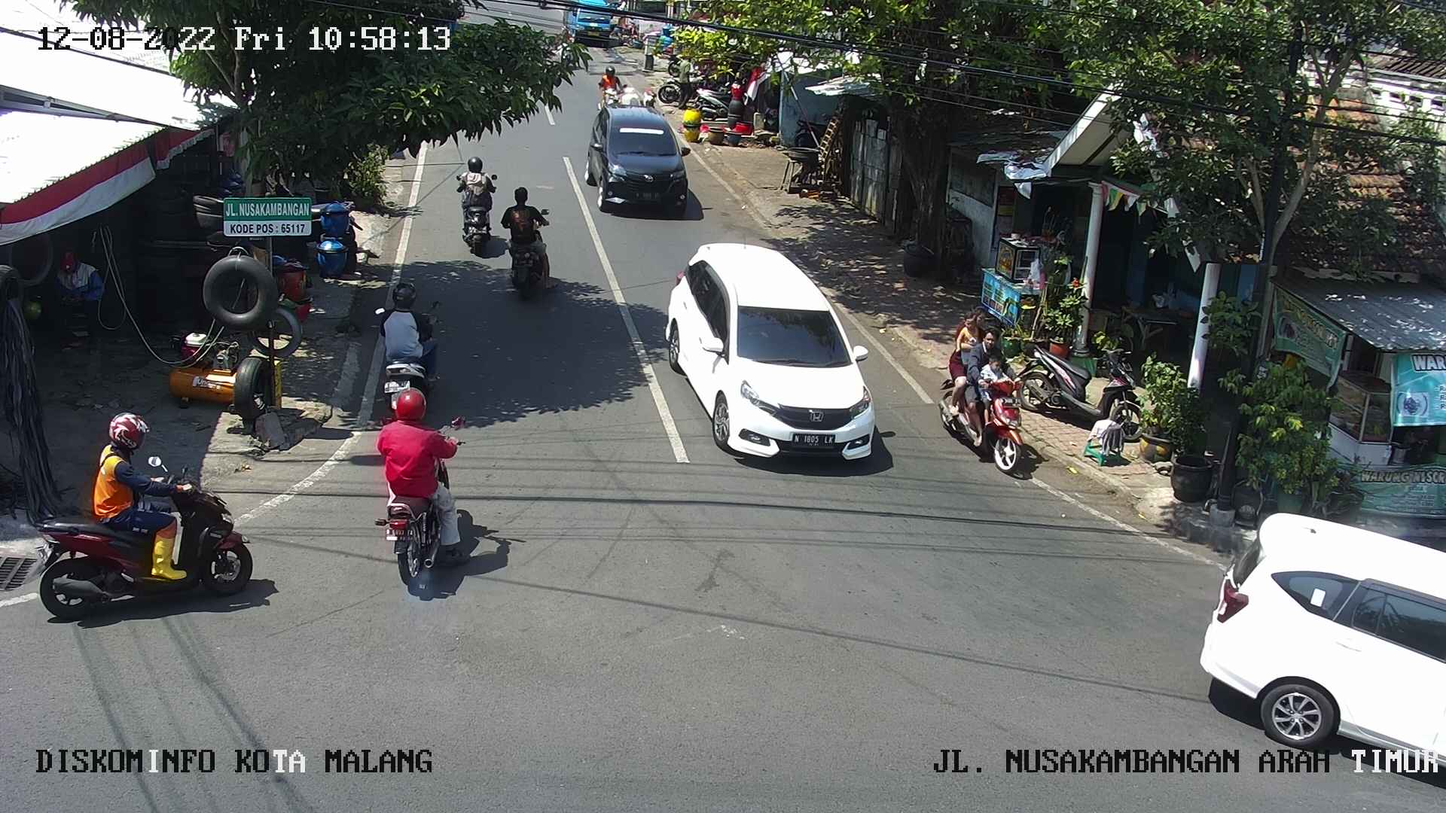with_helmet: (28, 406, 265, 625), (378, 392, 479, 599), (372, 275, 444, 428), (452, 155, 501, 254)
without_helmet: (938, 303, 1030, 480), (498, 182, 564, 301)
